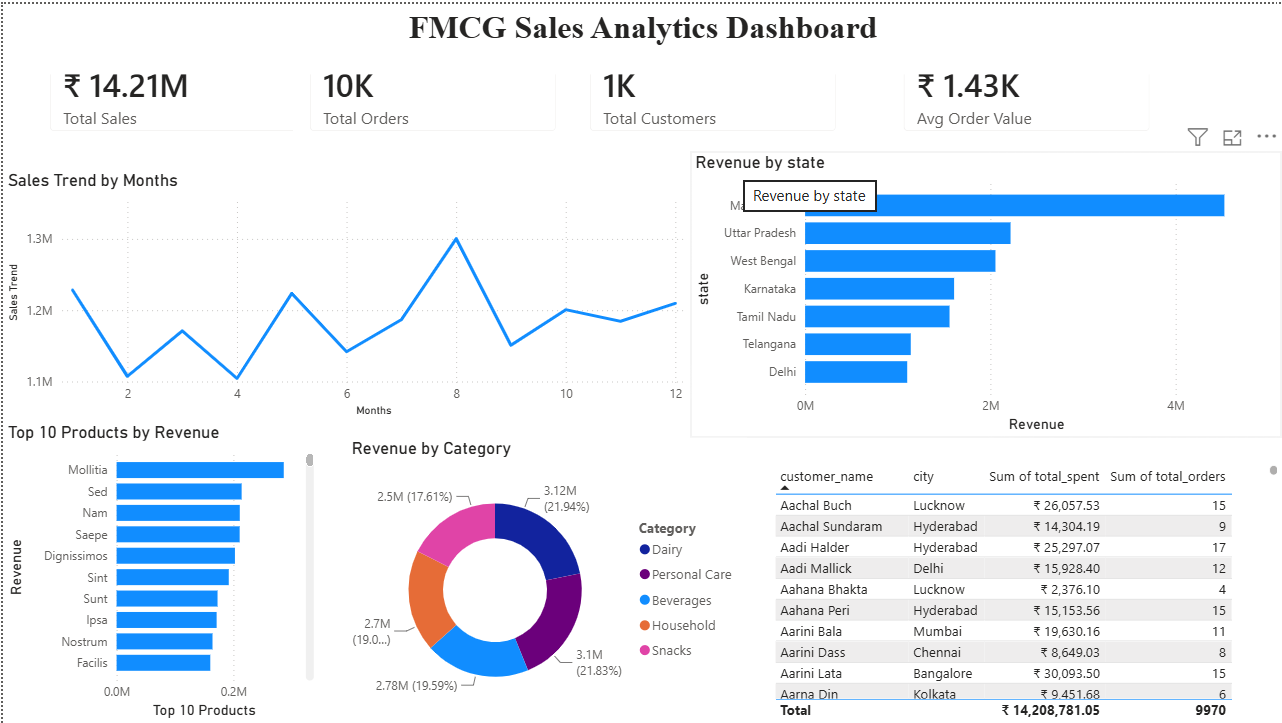

This screenshot's page, from the dashboard's own definition file:
{"tool":"powerbi","page":{"name":"Page 1","canvas":[1280,720],"ordinal":0},"visuals":[{"type":"cardVisual","fields":{"Data":["fact_sales.Total Sales"]},"box":[30,36,286,108],"z":0},{"type":"cardVisual","fields":{"Data":["fact_sales.Average Order Value"]},"box":[884,36,280,108],"z":1000},{"type":"cardVisual","fields":{"Data":["fact_sales.Total Orders"]},"box":[290,36,280,108],"z":2000},{"type":"cardVisual","fields":{"Data":["fact_sales.Total Customers"]},"box":[570,36,280,108],"z":3000},{"type":"lineChart","fields":{"Y":["Sum(vw_monthly_sales.total_sales)"],"Category":["vw_monthly_sales.month","vw_monthly_sales.year"]},"box":[0,166.2,687.5,251.2],"z":4000},{"type":"clusteredBarChart","fields":{"Category":["vw_sales_summary.state"],"Y":["Sum(vw_sales_summary.total_sales)"]},"box":[688,148,592,286],"z":5000},{"type":"clusteredBarChart","fields":{"Category":["vw_top_products.product_name"],"Y":["Sum(vw_top_products.revenue)"]},"box":[0,418,316,302],"z":6000},{"type":"donutChart","fields":{"Category":["vw_sales_summary.category"],"Y":["Sum(vw_sales_summary.total_sales)"]},"box":[344,434,400,286],"z":7000},{"type":"tableEx","fields":{"Values":["vw_customer_sales.customer_name","vw_customer_sales.city","Sum(vw_customer_sales.total_spent)","Sum(vw_customer_sales.total_orders)"]},"box":[766,456,514,264],"z":8000},{"type":"textbox","box":[0,0,1280,70],"z":9000}]}

Visuals, with their boxes in screenshot pixels (x1, y1, x2, y2), scaled from the page's 1280x720 canvas onto the 1282x723 screenshot:
cardVisual - fact_sales.Total Sales: 30:36:316:145
cardVisual - fact_sales.Average Order Value: 885:36:1166:145
cardVisual - fact_sales.Total Orders: 290:36:571:145
cardVisual - fact_sales.Total Customers: 571:36:851:145
lineChart - Sum(vw_monthly_sales.total_sales) x vw_monthly_sales.month: 0:167:689:419
clusteredBarChart - vw_sales_summary.state x Sum(vw_sales_summary.total_sales): 689:149:1281:436
clusteredBarChart - vw_top_products.product_name x Sum(vw_top_products.revenue): 0:420:316:722
donutChart - vw_sales_summary.category x Sum(vw_sales_summary.total_sales): 345:436:745:722
tableEx - vw_customer_sales.customer_name x vw_customer_sales.city: 767:458:1281:722
textbox: 0:0:1281:70
